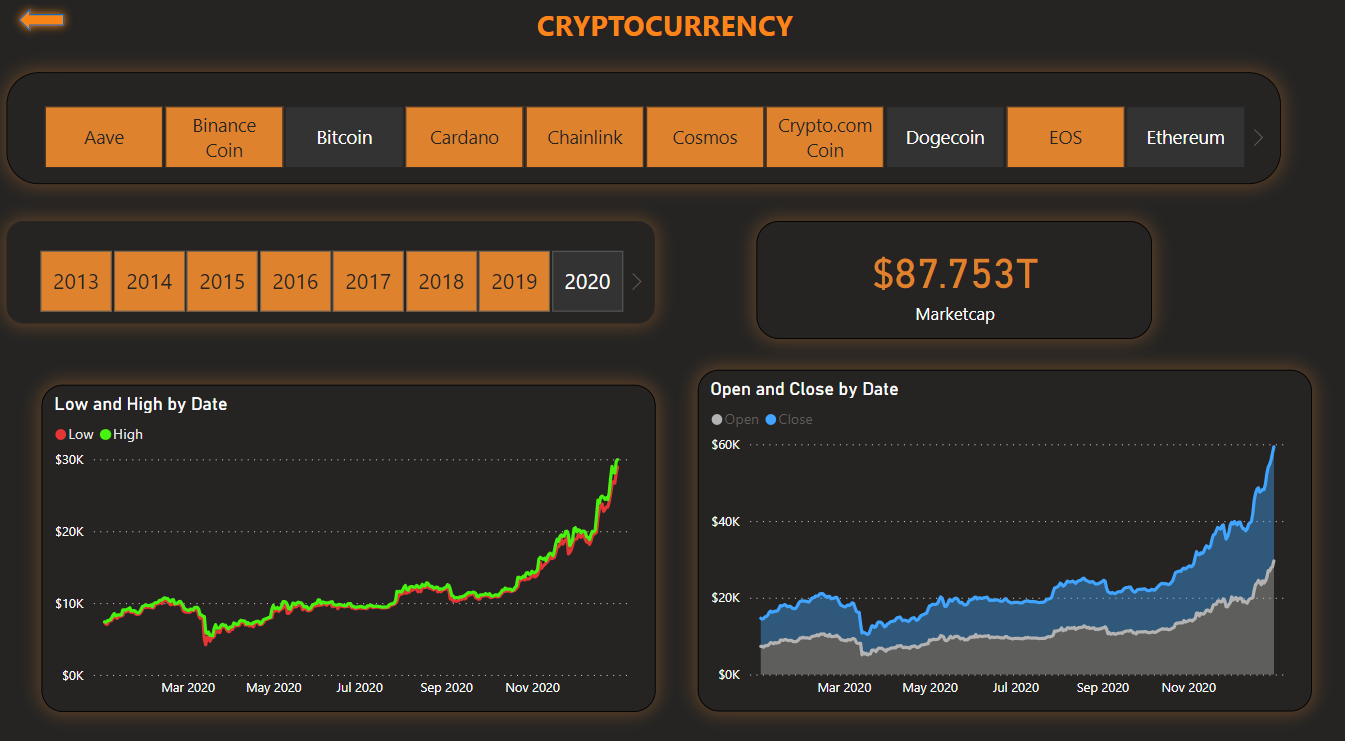

What the dashboard file says about the page in this screenshot:
{"tool":"powerbi","page":{"name":"Page 2","canvas":[1280,720],"ordinal":1},"visuals":[{"type":"slicer","fields":{"Values":["archive1.Name"]},"box":[16.7,80.8,1193.6,104.5],"z":0},{"type":"slicer","fields":{"Values":["archive1.Year"]},"box":[16.7,220.1,607.3,96.1],"z":1000},{"type":"lineChart","fields":{"Category":["archive1.Date"],"Y":["Sum(archive1.Low)","Sum(archive1.High)"]},"box":[48.7,373.3,575.2,306.4],"z":2000},{"type":"card","fields":{"Values":["Sum(archive1.Marketcap)"]},"box":[718.7,220.1,370.5,110],"z":3000},{"type":"shape","box":[19.5,12.5,58.5,37.6],"z":4000},{"type":"textbox","box":[508.1,12.9,265.8,45.7],"z":5000},{"type":"stackedAreaChart","fields":{"Category":["archive1.Date"],"Y":["Sum(archive1.Open)","Sum(archive1.Close)"]},"box":[664.4,359.3,575.2,320.3],"z":6000}]}

Visuals, with their boxes in screenshot pixels (x1, y1, x2, y2), scaled from the page's 1280x720 canvas onto the 1345x741 screenshot:
slicer - archive1.Name: bbox=(18, 83, 1272, 191)
slicer - archive1.Year: bbox=(18, 227, 656, 325)
lineChart - archive1.Date x Sum(archive1.Low): bbox=(51, 384, 656, 700)
card - Sum(archive1.Marketcap): bbox=(755, 227, 1145, 340)
shape: bbox=(20, 13, 82, 52)
textbox: bbox=(534, 13, 813, 60)
stackedAreaChart - archive1.Date x Sum(archive1.Open): bbox=(698, 370, 1303, 699)
